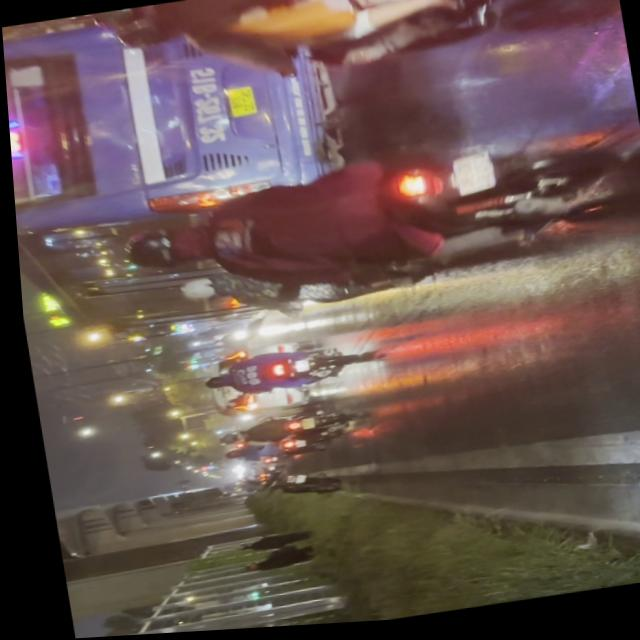helmet: (116, 221, 208, 278), (168, 273, 223, 306)
licenseplate: (103, 122, 640, 319), (71, 0, 626, 114)
nohelmet: (445, 156, 491, 201)
